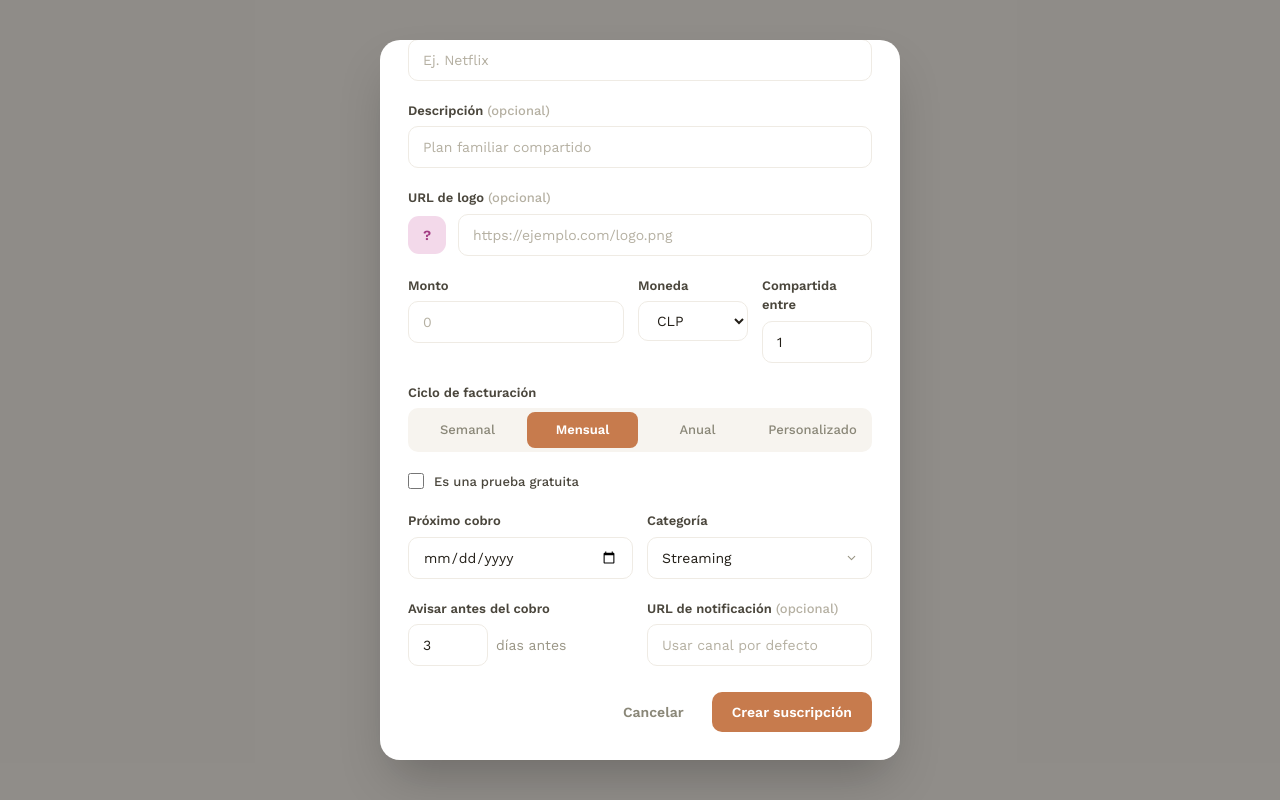
Test: SubscriptionFormModal › shows the custom category field when 'Otra...' is selected
(page scrolled)
Select "Otra..." in the 2nd dropdown at (760, 558), box [647, 536, 872, 578]
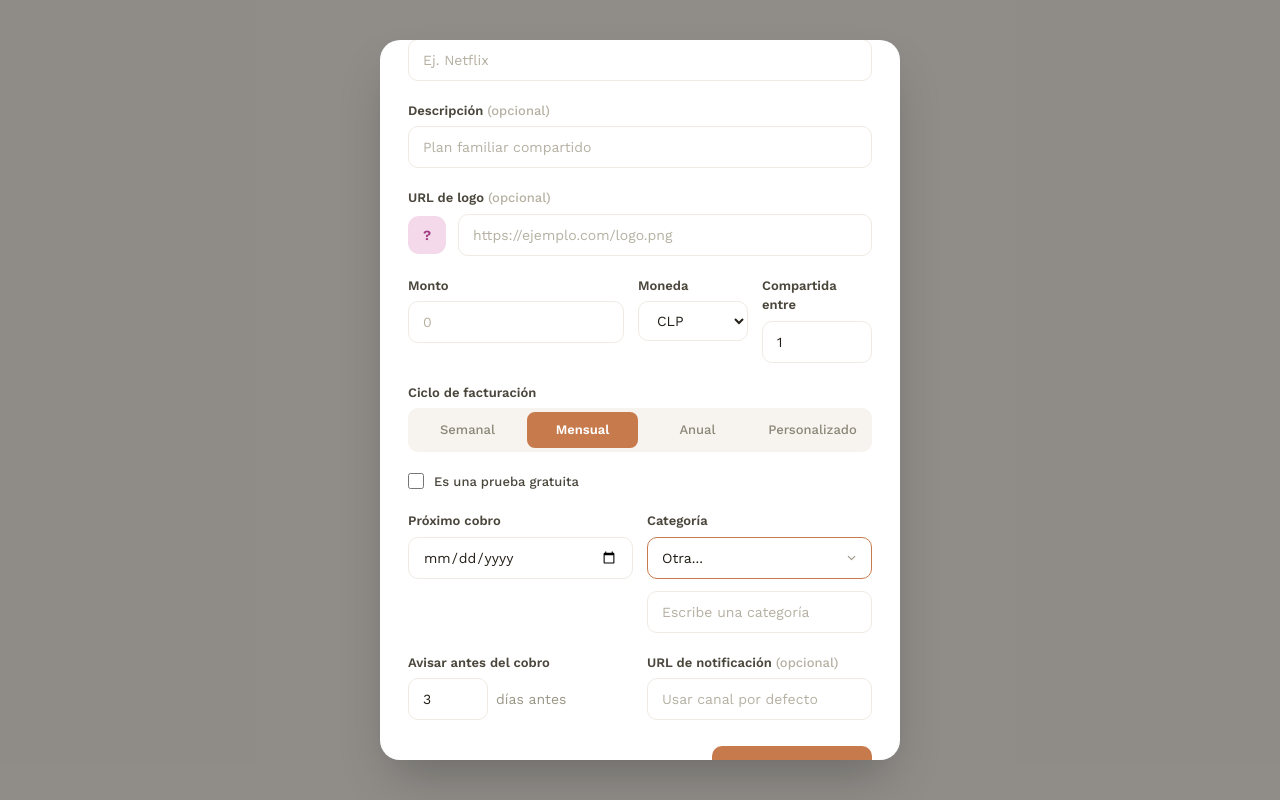
Check: the field with placeholder "Escribe una categoría" is shown, box [647, 590, 872, 632]
